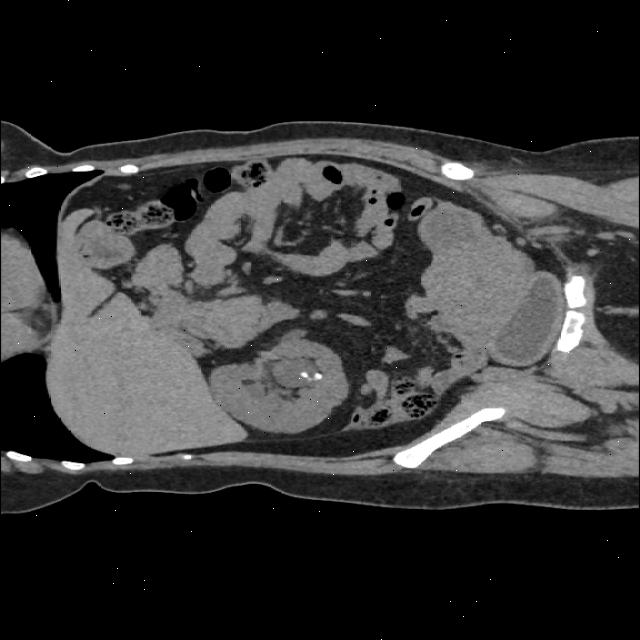kidneystone: (313, 371, 323, 379), (300, 372, 309, 378)
